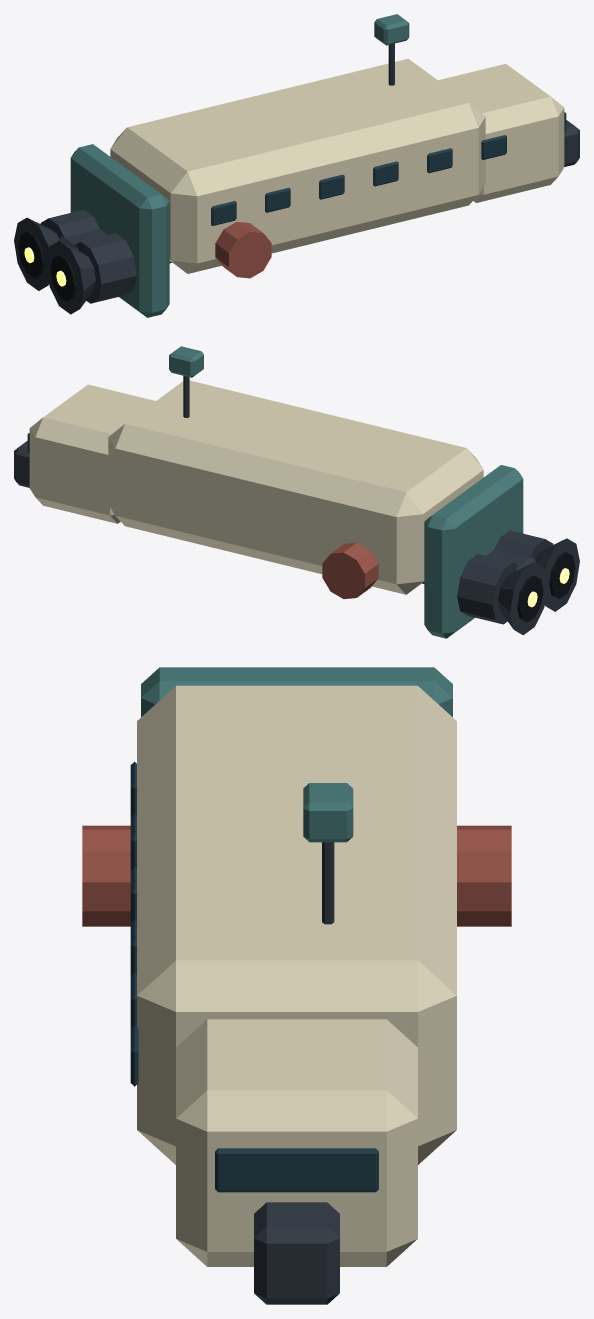
Rendered from nine-seats.glb.
3 renders of one model, top to bottom at view 1: azimuth 30°, elevation 25°; view 2: azimuth 150°, elevation 25°; view 3: azimuth 270°, elevation 25°, orthographic. The views are drawn at different scales.
Parts seen in each view (by area): view 1: passenger cabin, forward command, reactor shield, engine jacket, docking collar, engine bell, engine bell.001, engine jacket.001, structural spine, sensor head, engine throat, engine throat.001 (+6 smaller); view 2: passenger cabin, forward command, reactor shield, engine jacket.001, docking collar.001, engine bell.001, engine bell, engine jacket, structural spine, sensor head, engine throat, engine throat.001; view 3: passenger cabin, forward command, structural spine, bridge glazing, reactor shield, docking collar.001, docking collar, sensor head, radio mast.
Boxes of the visible parts, x1,y1,x2,y2 form: passenger cabin: (110, 58, 485, 273); forward command: (438, 63, 564, 202); reactor shield: (70, 144, 169, 317); engine jacket: (74, 233, 136, 303); docking collar: (215, 222, 271, 278); engine bell: (46, 241, 95, 314); engine bell.001: (14, 217, 58, 290); engine jacket.001: (40, 209, 99, 238); structural spine: (58, 120, 579, 263); sensor head: (374, 14, 409, 45); engine throat: (50, 254, 76, 301); engine throat.001: (18, 231, 44, 277); passenger cabin: (108, 380, 483, 594); forward command: (29, 384, 155, 523); reactor shield: (424, 465, 523, 638); engine jacket.001: (457, 554, 518, 624); docking collar.001: (322, 542, 378, 599); engine bell.001: (498, 562, 547, 635); engine bell: (534, 538, 579, 611); engine jacket: (494, 530, 553, 559); structural spine: (14, 441, 535, 583); sensor head: (169, 346, 203, 377); engine throat: (549, 552, 575, 598); engine throat.001: (517, 575, 543, 622); passenger cabin: (137, 685, 456, 1164); forward command: (176, 1019, 417, 1266); structural spine: (254, 1202, 339, 1304); bridge glazing: (215, 1148, 378, 1192); reactor shield: (141, 667, 452, 716); docking collar.001: (457, 825, 511, 926); docking collar: (82, 825, 130, 926); sensor head: (303, 783, 353, 842); radio mast: (322, 842, 334, 924).
Bounding box in the file's own units: 7.82 × 2.79 × 2.75.
